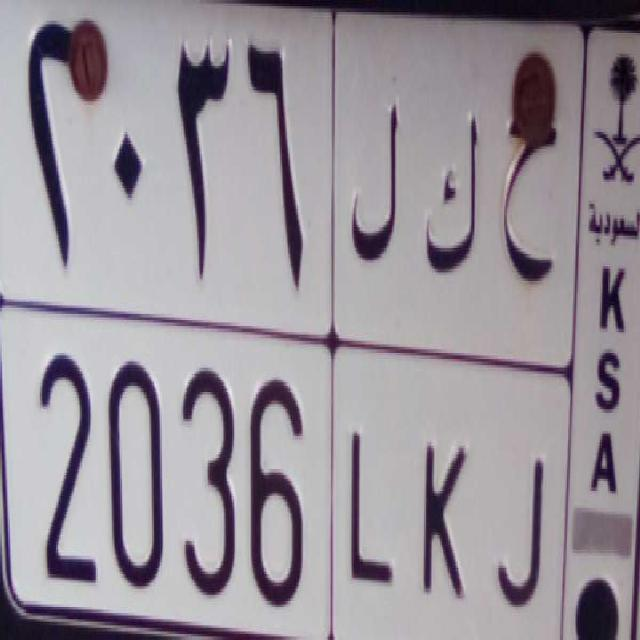license_plate: (11, 303, 564, 640)
